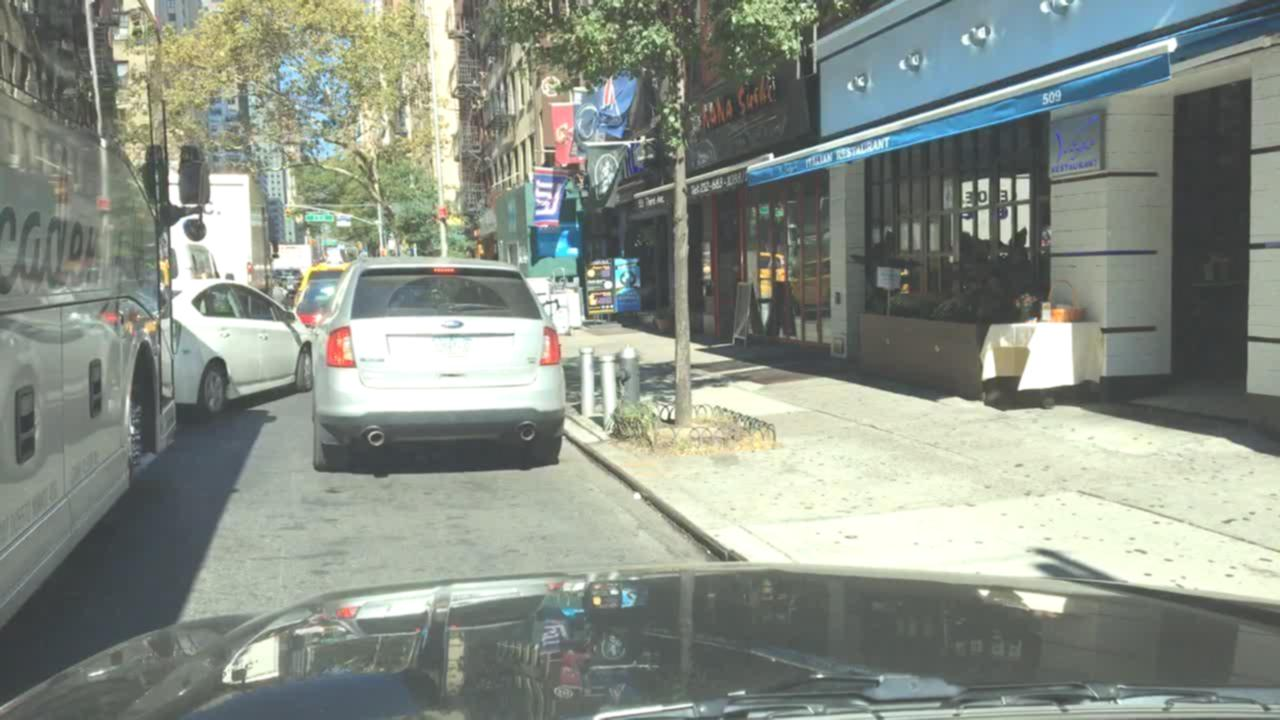ford: (431, 314, 477, 336)
